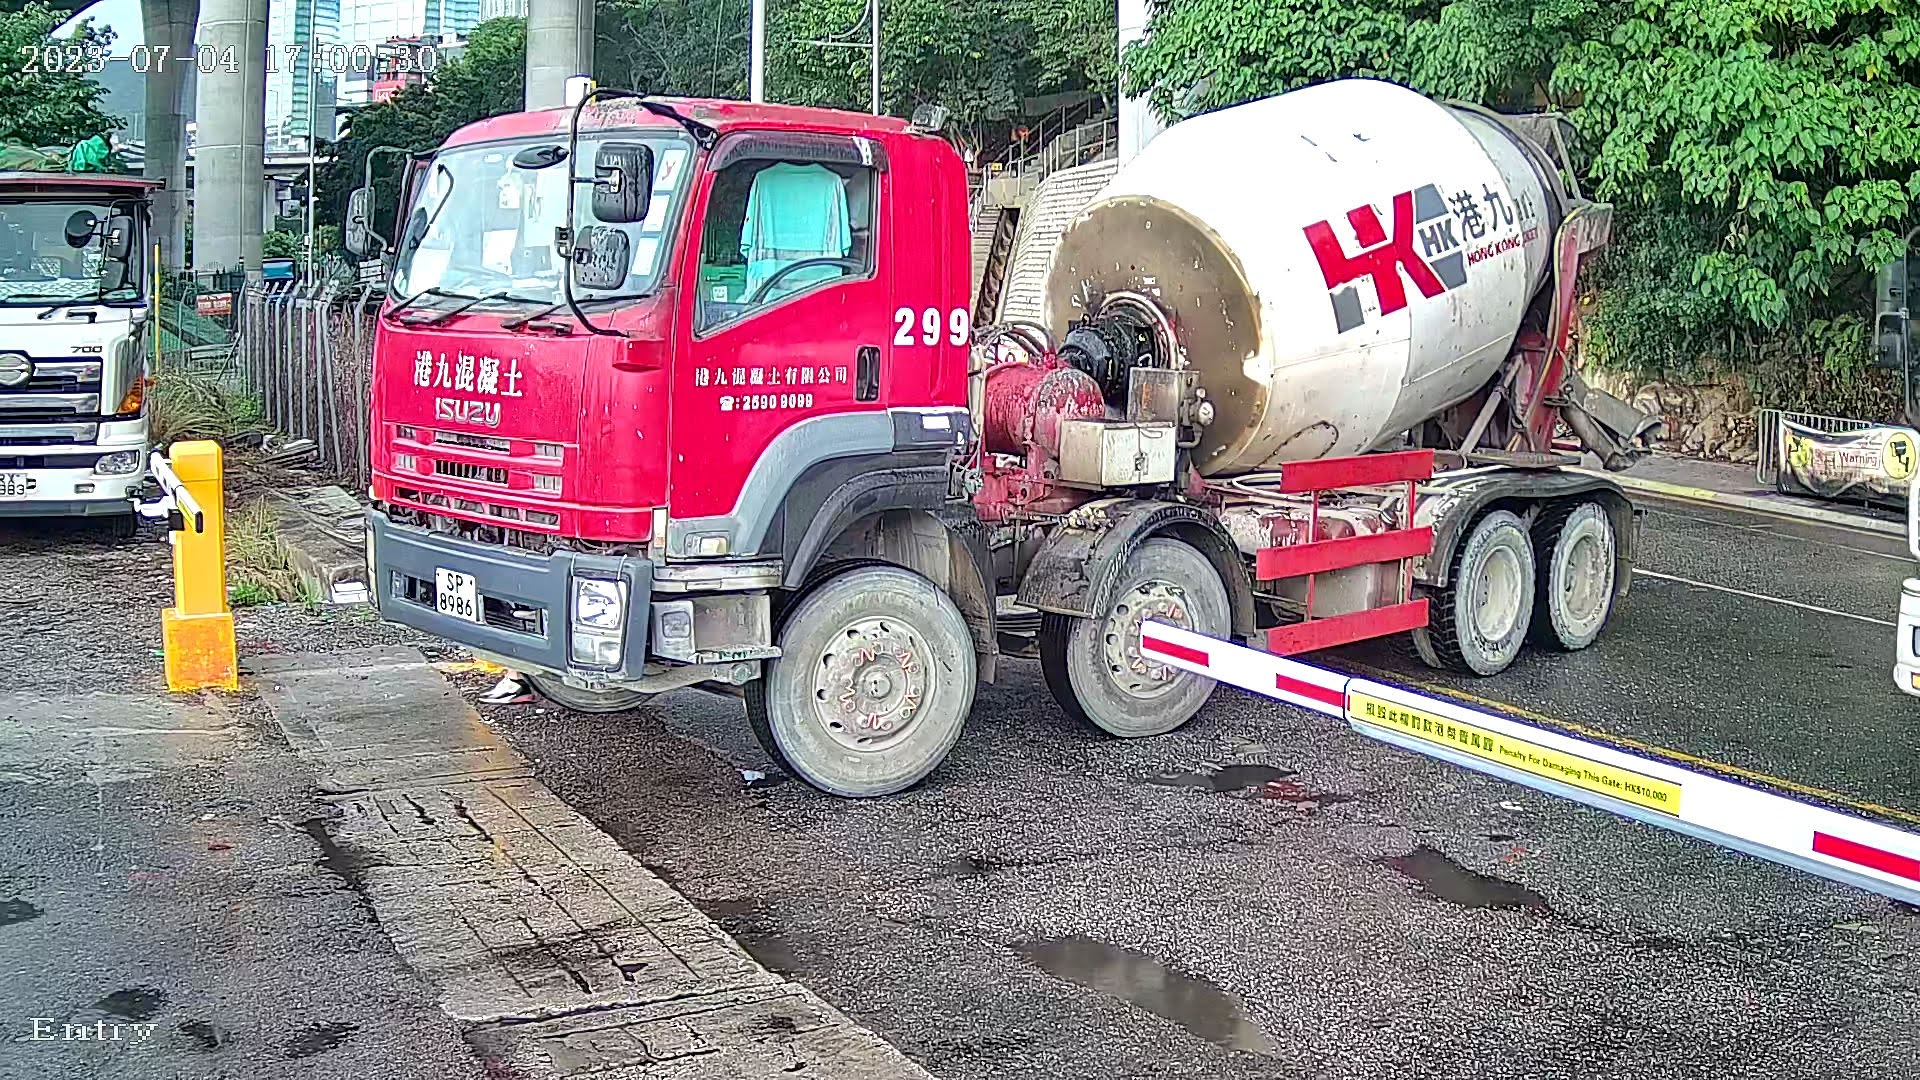truck: (349, 21, 1677, 823)
